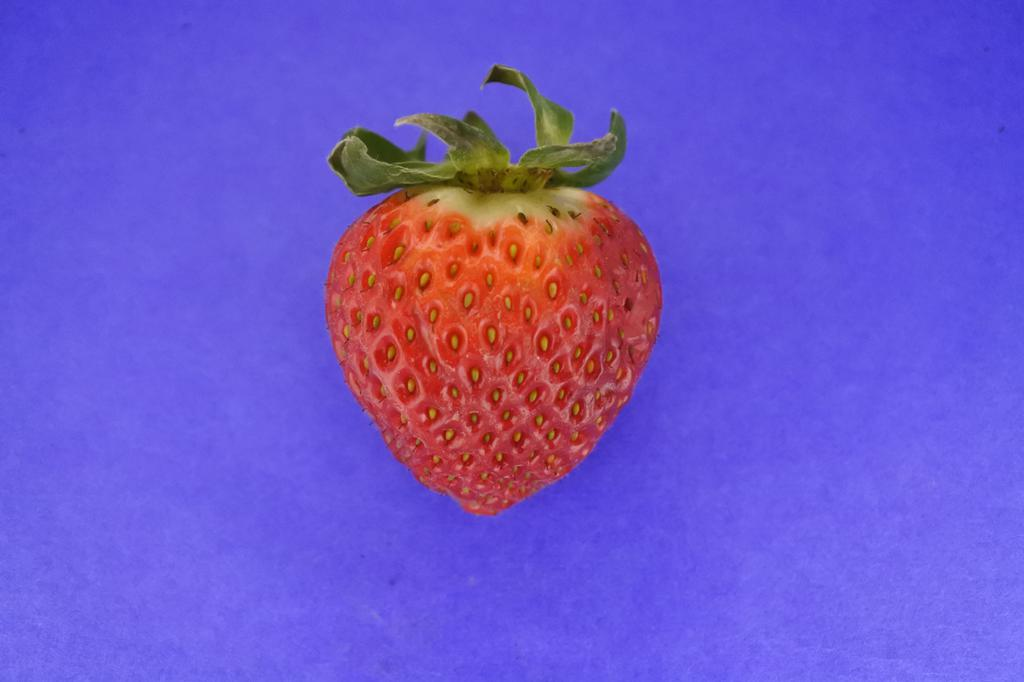red strawberry: (323, 66, 662, 516)
